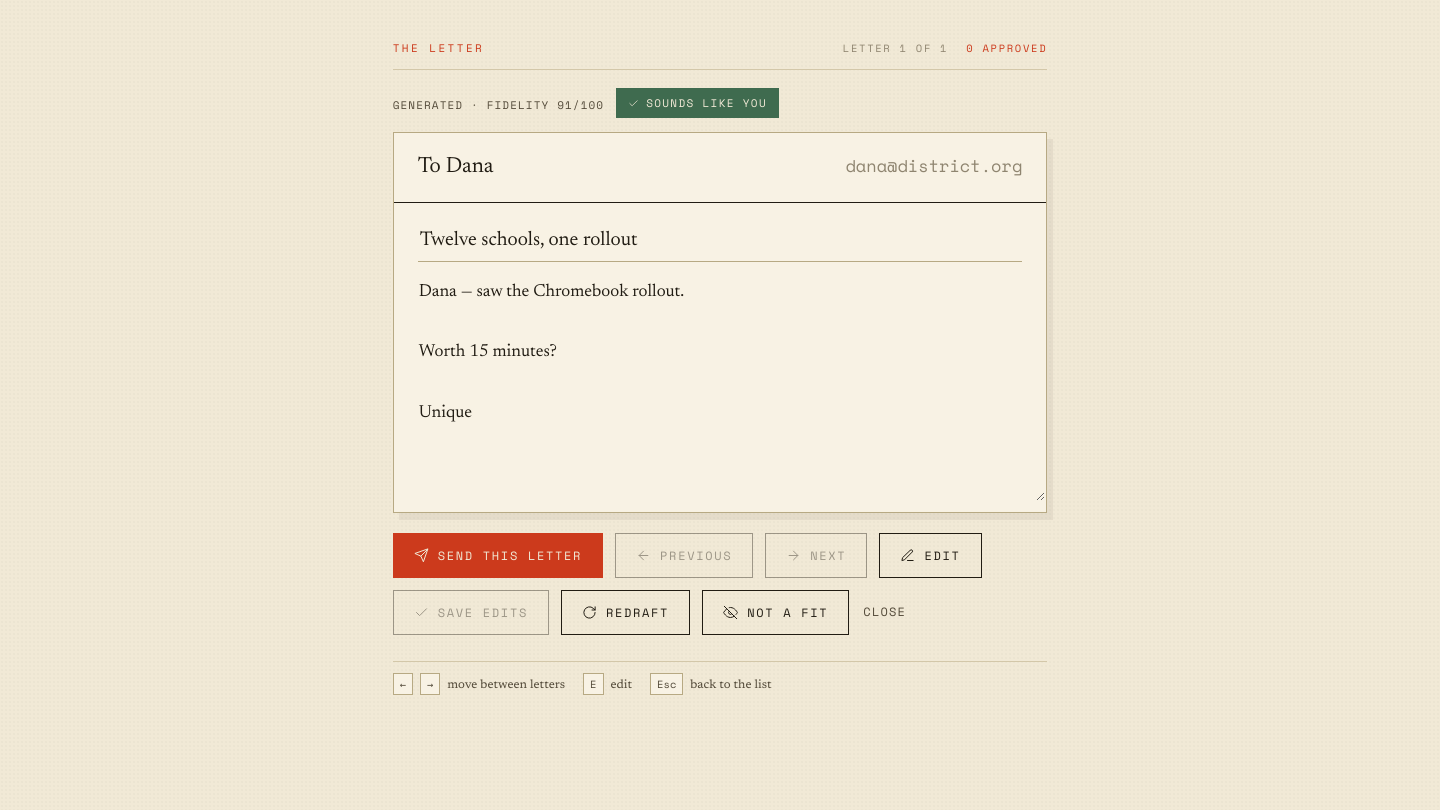
Test: rejecting a letter › posts the closed-set reason and drops the letter from the queue
Click the button "Not a fit".
click(776, 612)  # box 702,590 -> 849,635
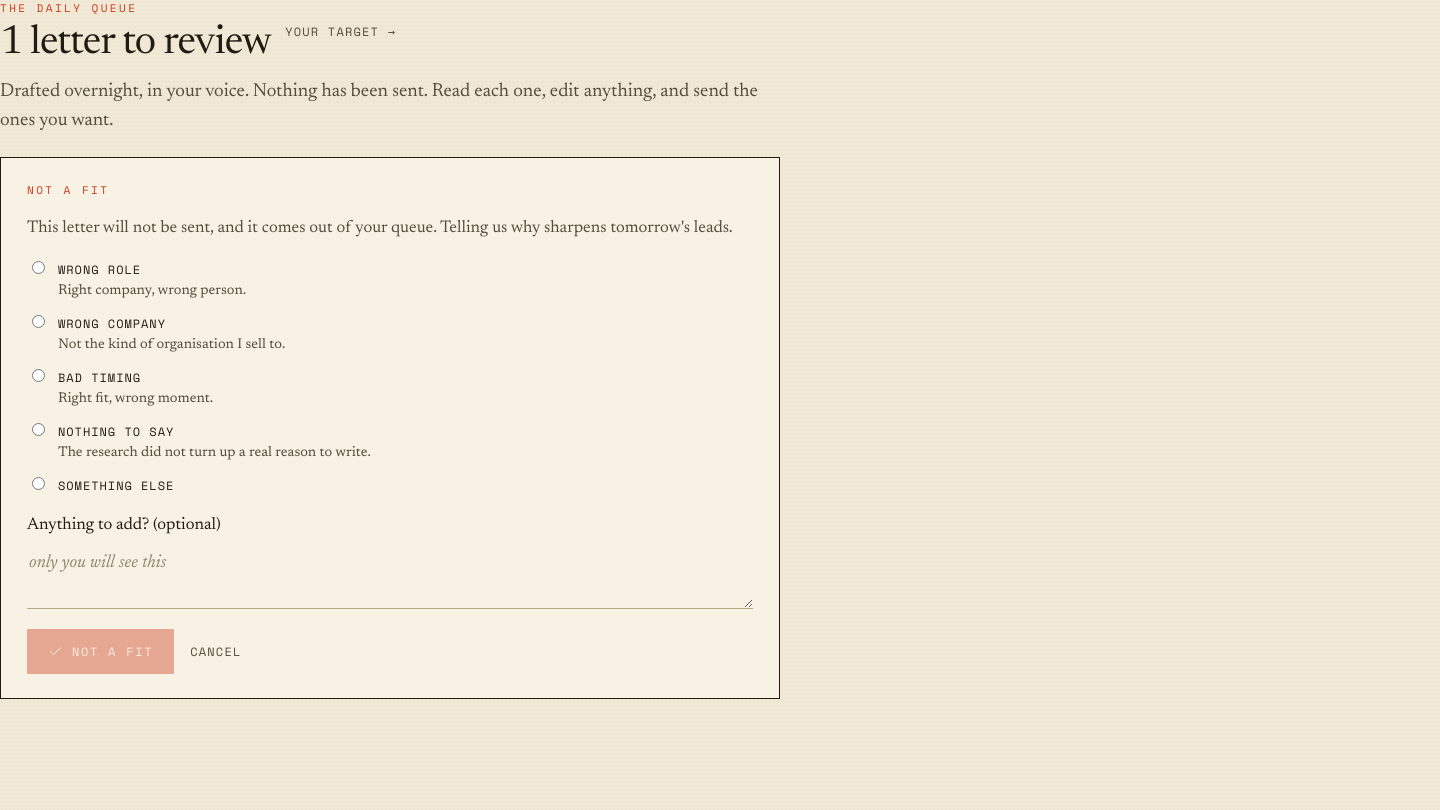
Click the radio button labelled "Wrong role Right company, wrong person.".
click(38, 268)  # box 32,261 -> 45,274
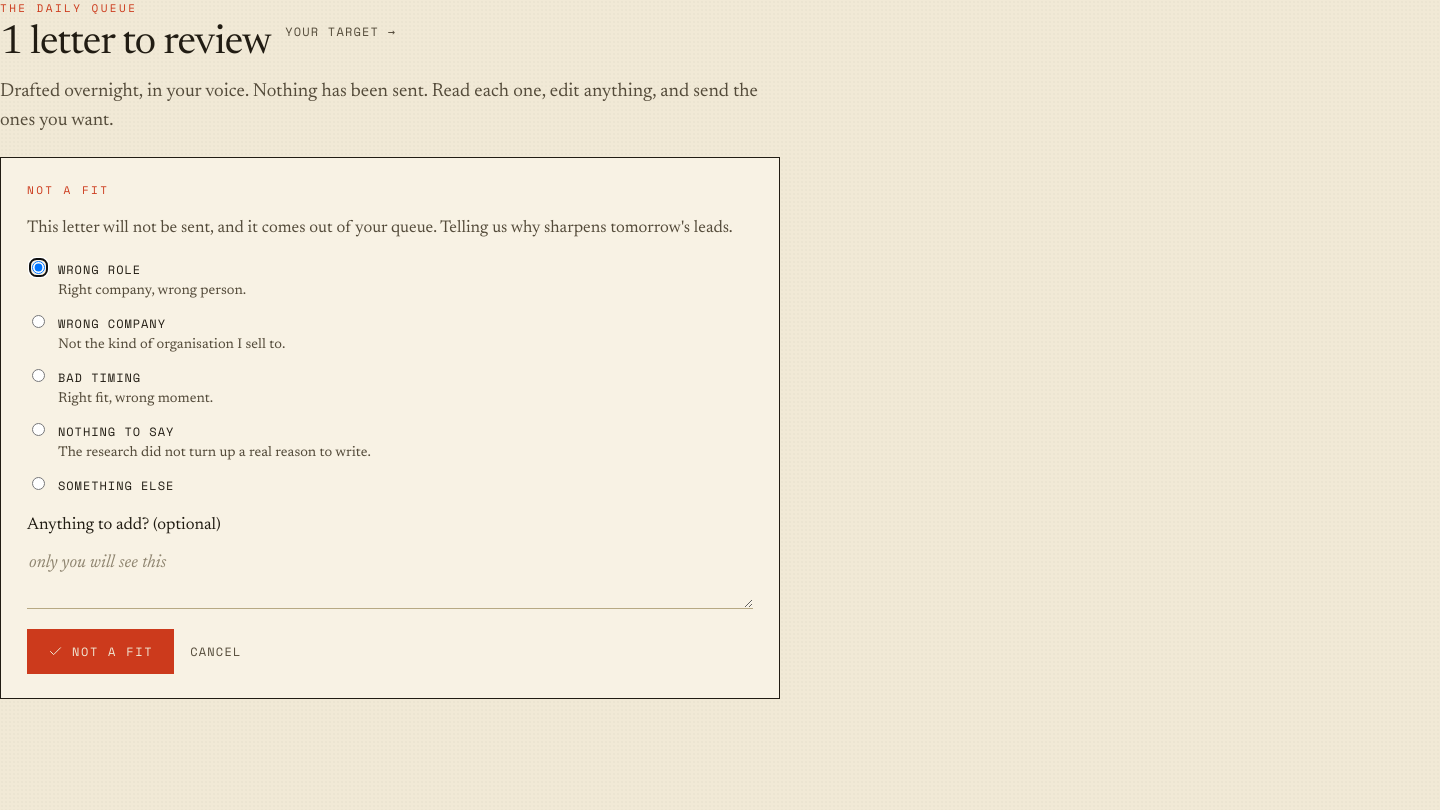
Click the button "Not a fit".
click(101, 652)  # box 27,629 -> 174,674
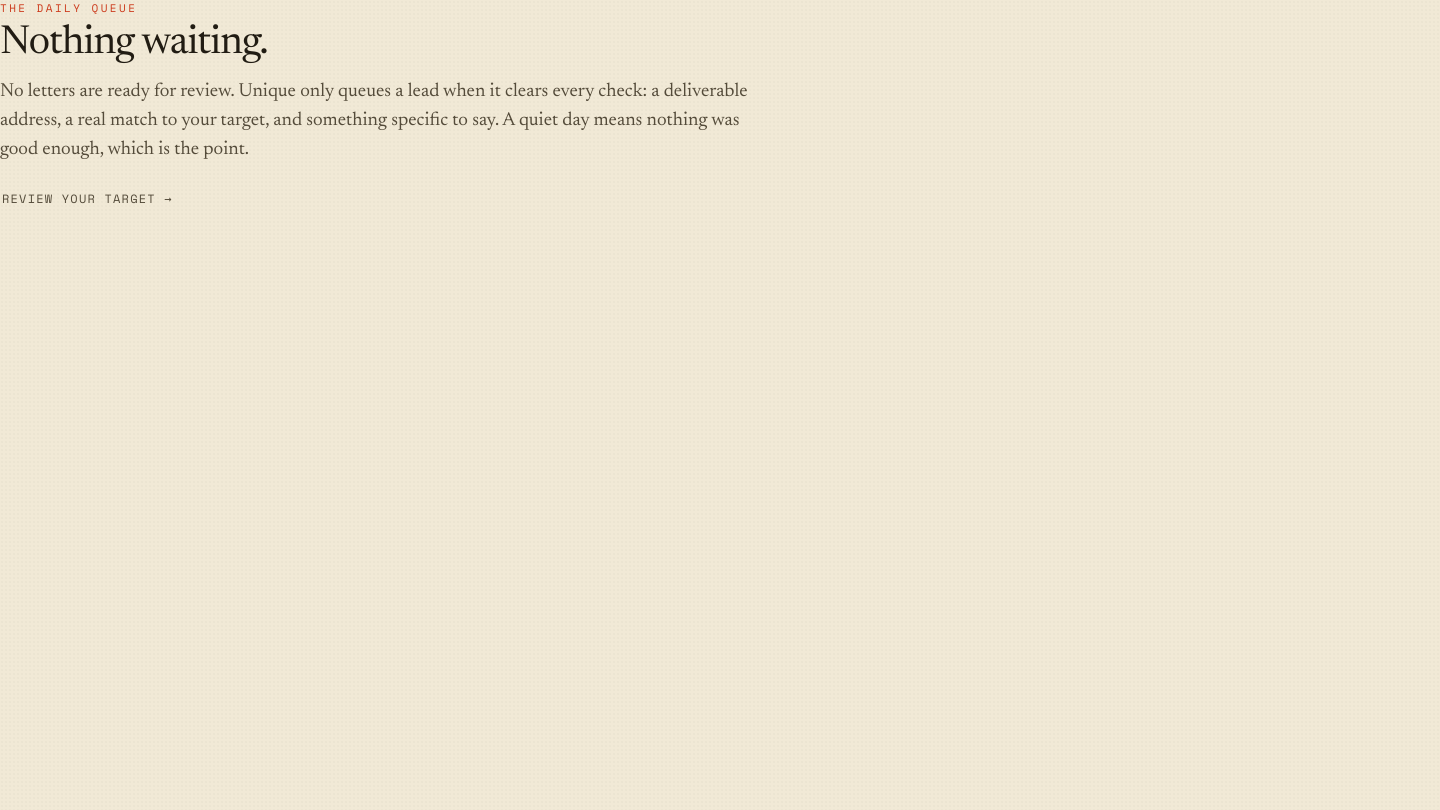
Expected: the heading "Nothing waiting." is shown, 0,24 -> 268,64
